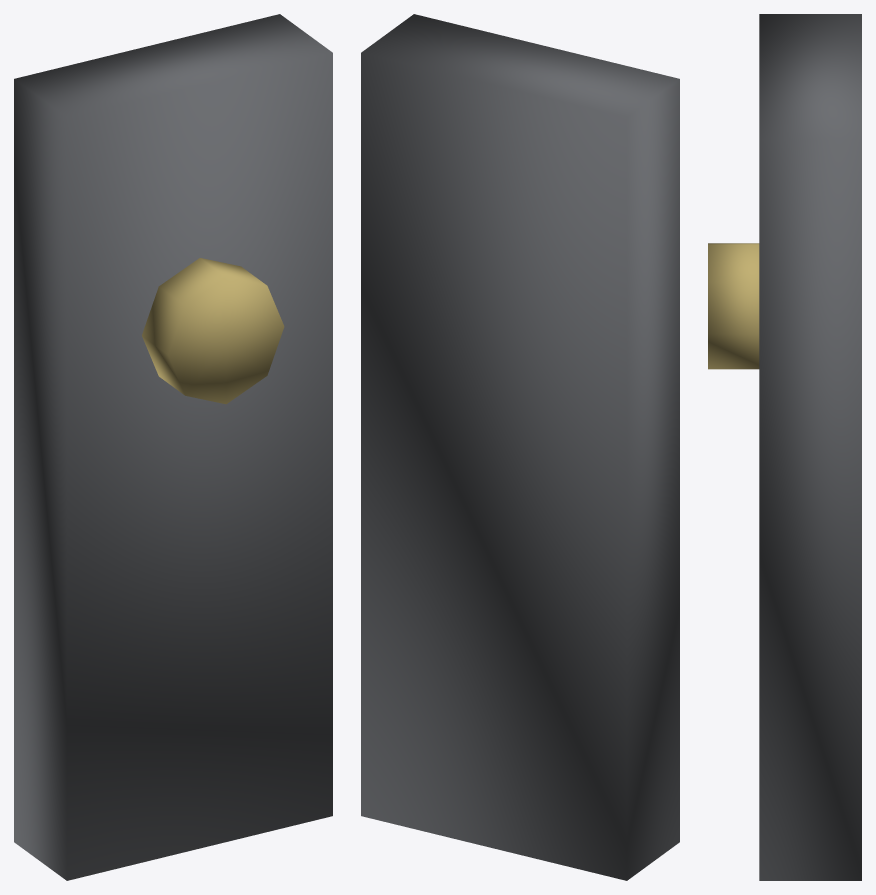
Rendered from elevator_call_13.glb.
The picture shows the model from 3 angles, left to right: view 1: azimuth 30°, elevation 25°; view 2: azimuth 150°, elevation 25°; view 3: azimuth 270°, elevation 25°; orthographic projection. The views are drawn at different scales.
Visible parts, largest first — view 1: world; view 2: world; view 3: world.
Part boxes in pixels (x1,y1,x2,y2): world: (14,14,332,880); world: (361,14,679,880); world: (708,14,861,880).
Size of the model in its own units: 0.1408 by 0.3864 by 0.0728.
